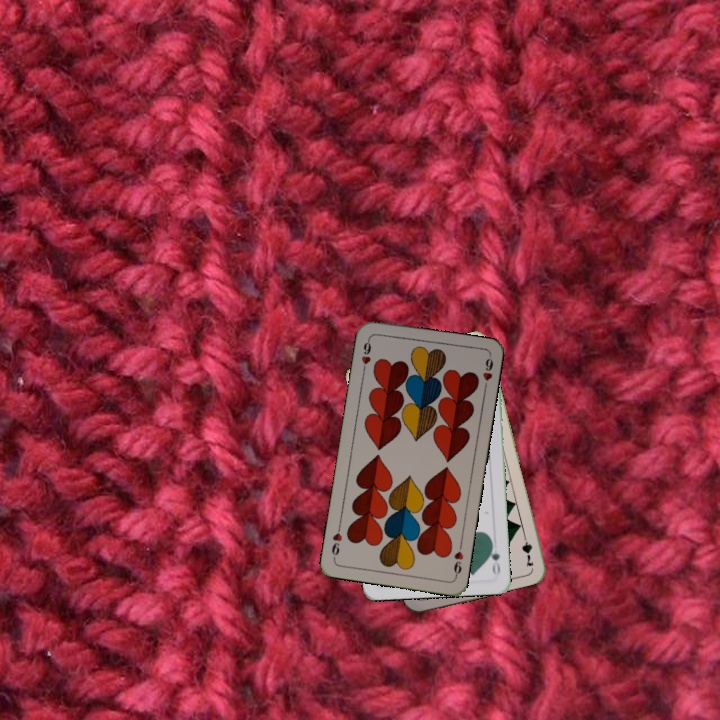G7: (518, 528, 536, 569)
GO: (485, 538, 502, 578)
H9: (357, 334, 374, 375), (450, 540, 466, 580)
